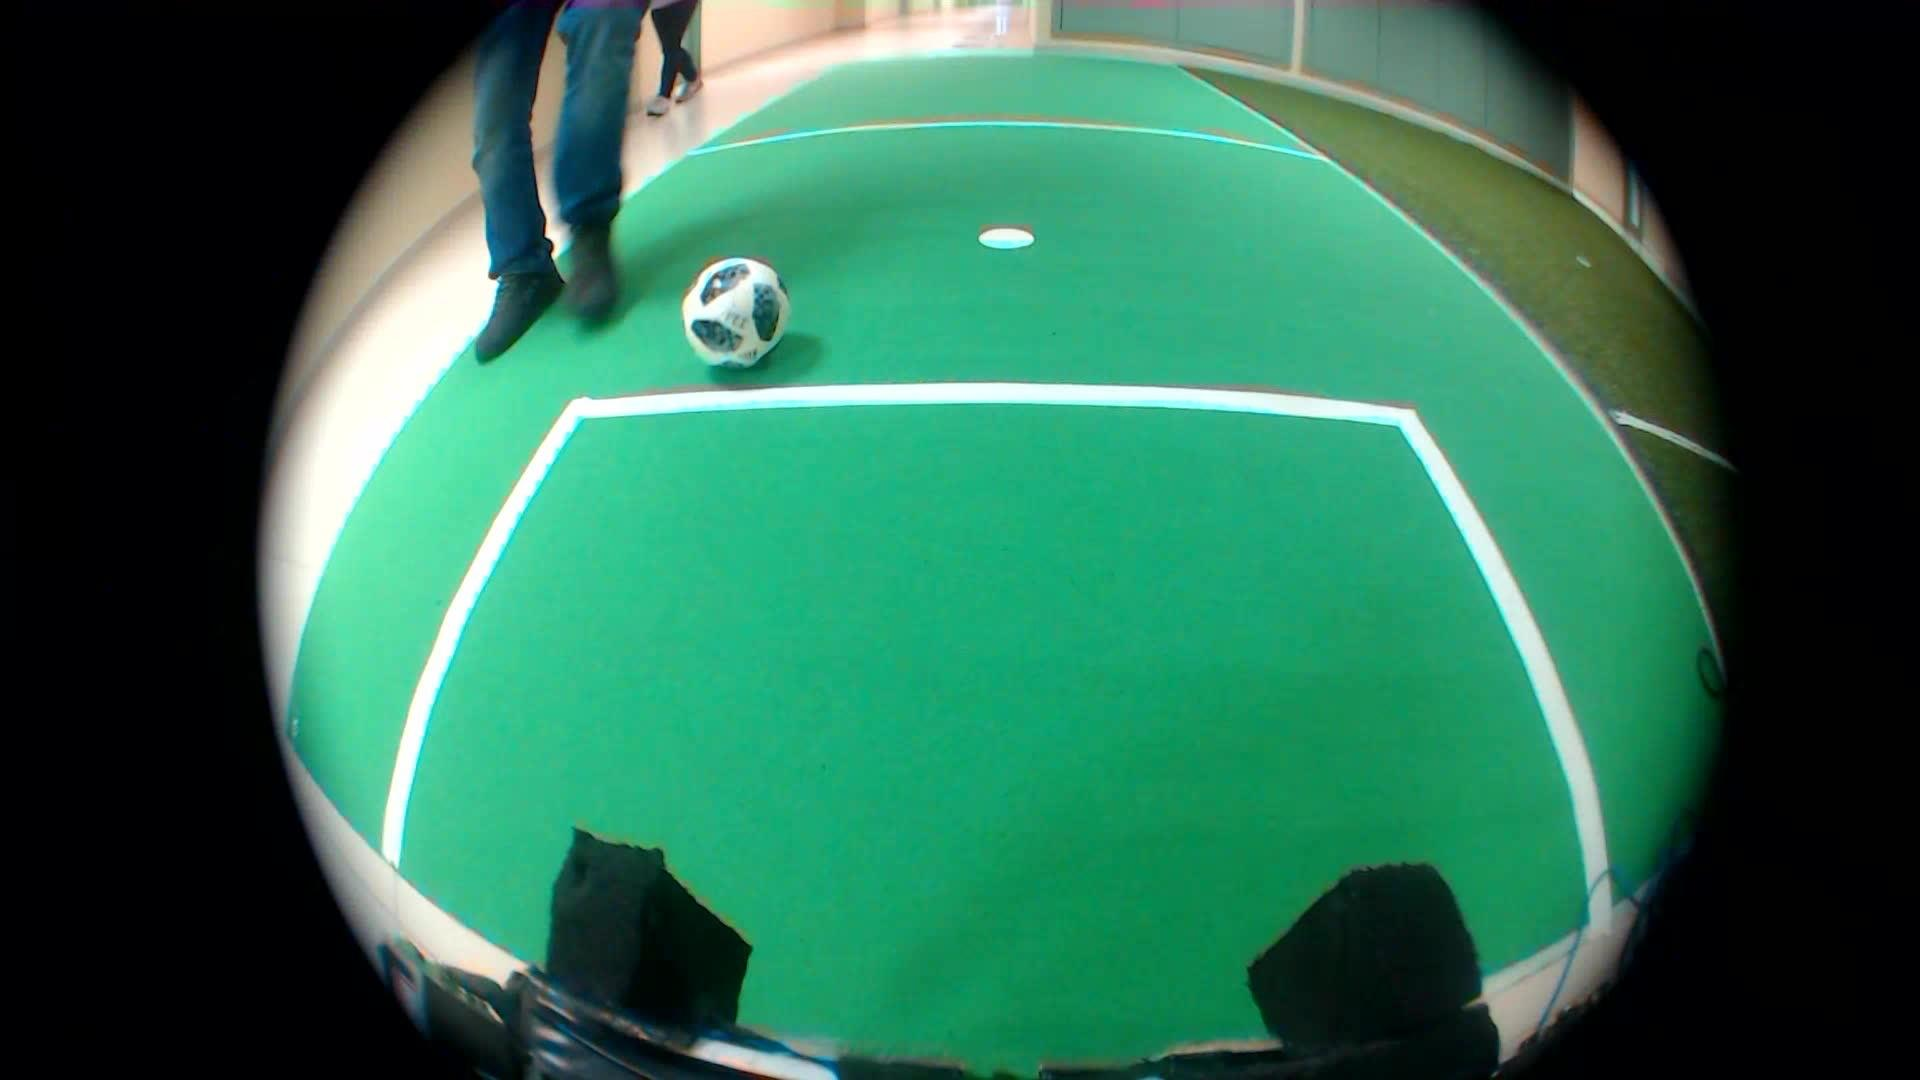ball: (669, 245, 800, 378)
